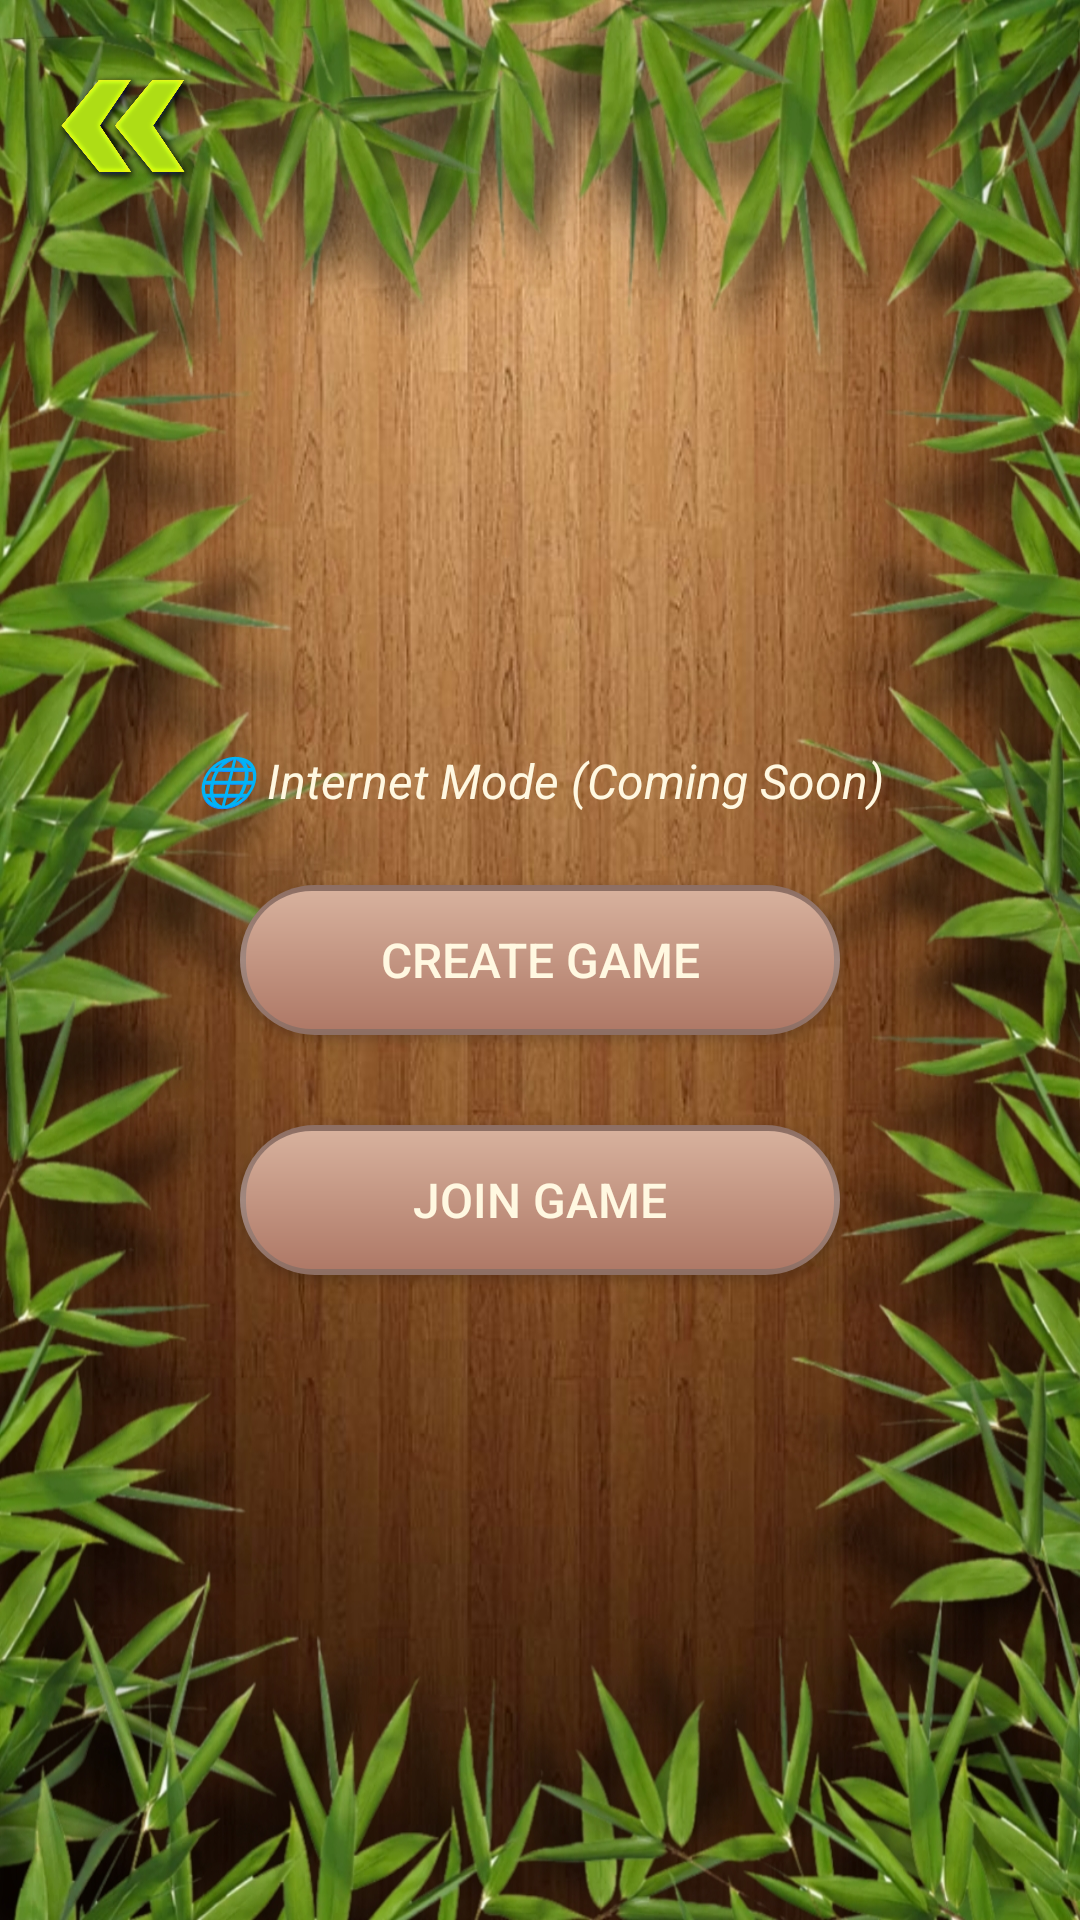

Named icons in this screenshot (1080px x 1920px) and their centers, [x,y]:
Back: [123,123]
